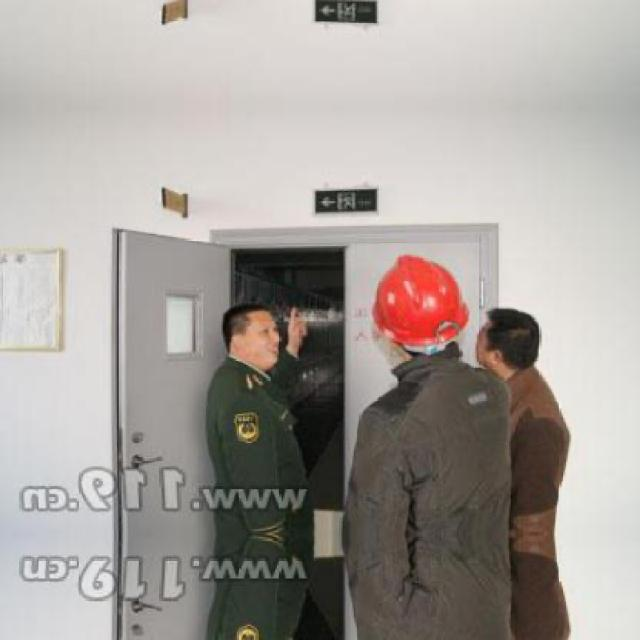con casco: (354, 244, 484, 376), (215, 302, 291, 400)
sin casco: (345, 266, 480, 405), (474, 299, 554, 384), (564, 279, 566, 287)
